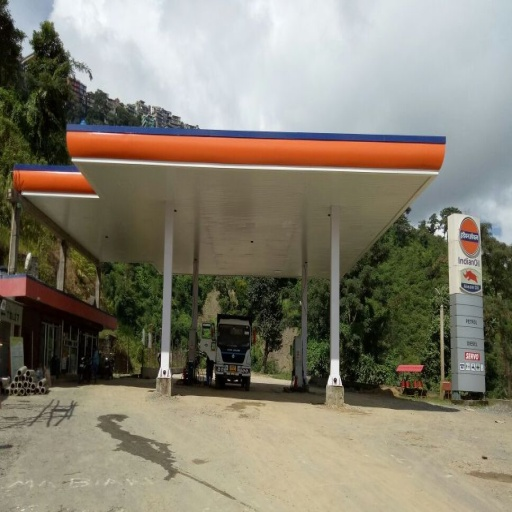roof: (25, 133, 448, 275)
